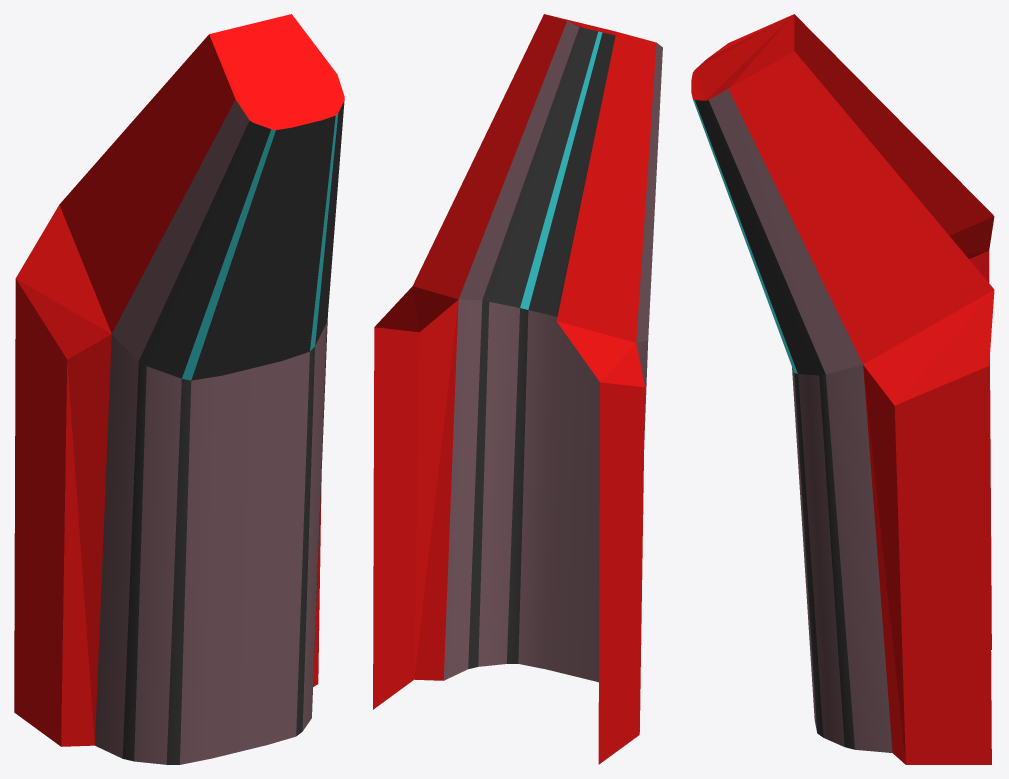
The model's file is Progeny Toy Factory.FBX.
The picture shows the model from 3 angles, left to right: view 1: azimuth 30°, elevation 25°; view 2: azimuth 150°, elevation 25°; view 3: azimuth 270°, elevation 25°; orthographic projection. The views are drawn at different scales.
Visible parts, largest first — view 1: Box003; view 2: Box003; view 3: Box003.
Part boxes in pixels (<box>): Box003: <box>14,14,344,764</box>; Box003: <box>373,14,662,764</box>; Box003: <box>691,14,994,764</box>.
Bounding box in the file's own units: 22.37 × 61.17 × 24.89.
